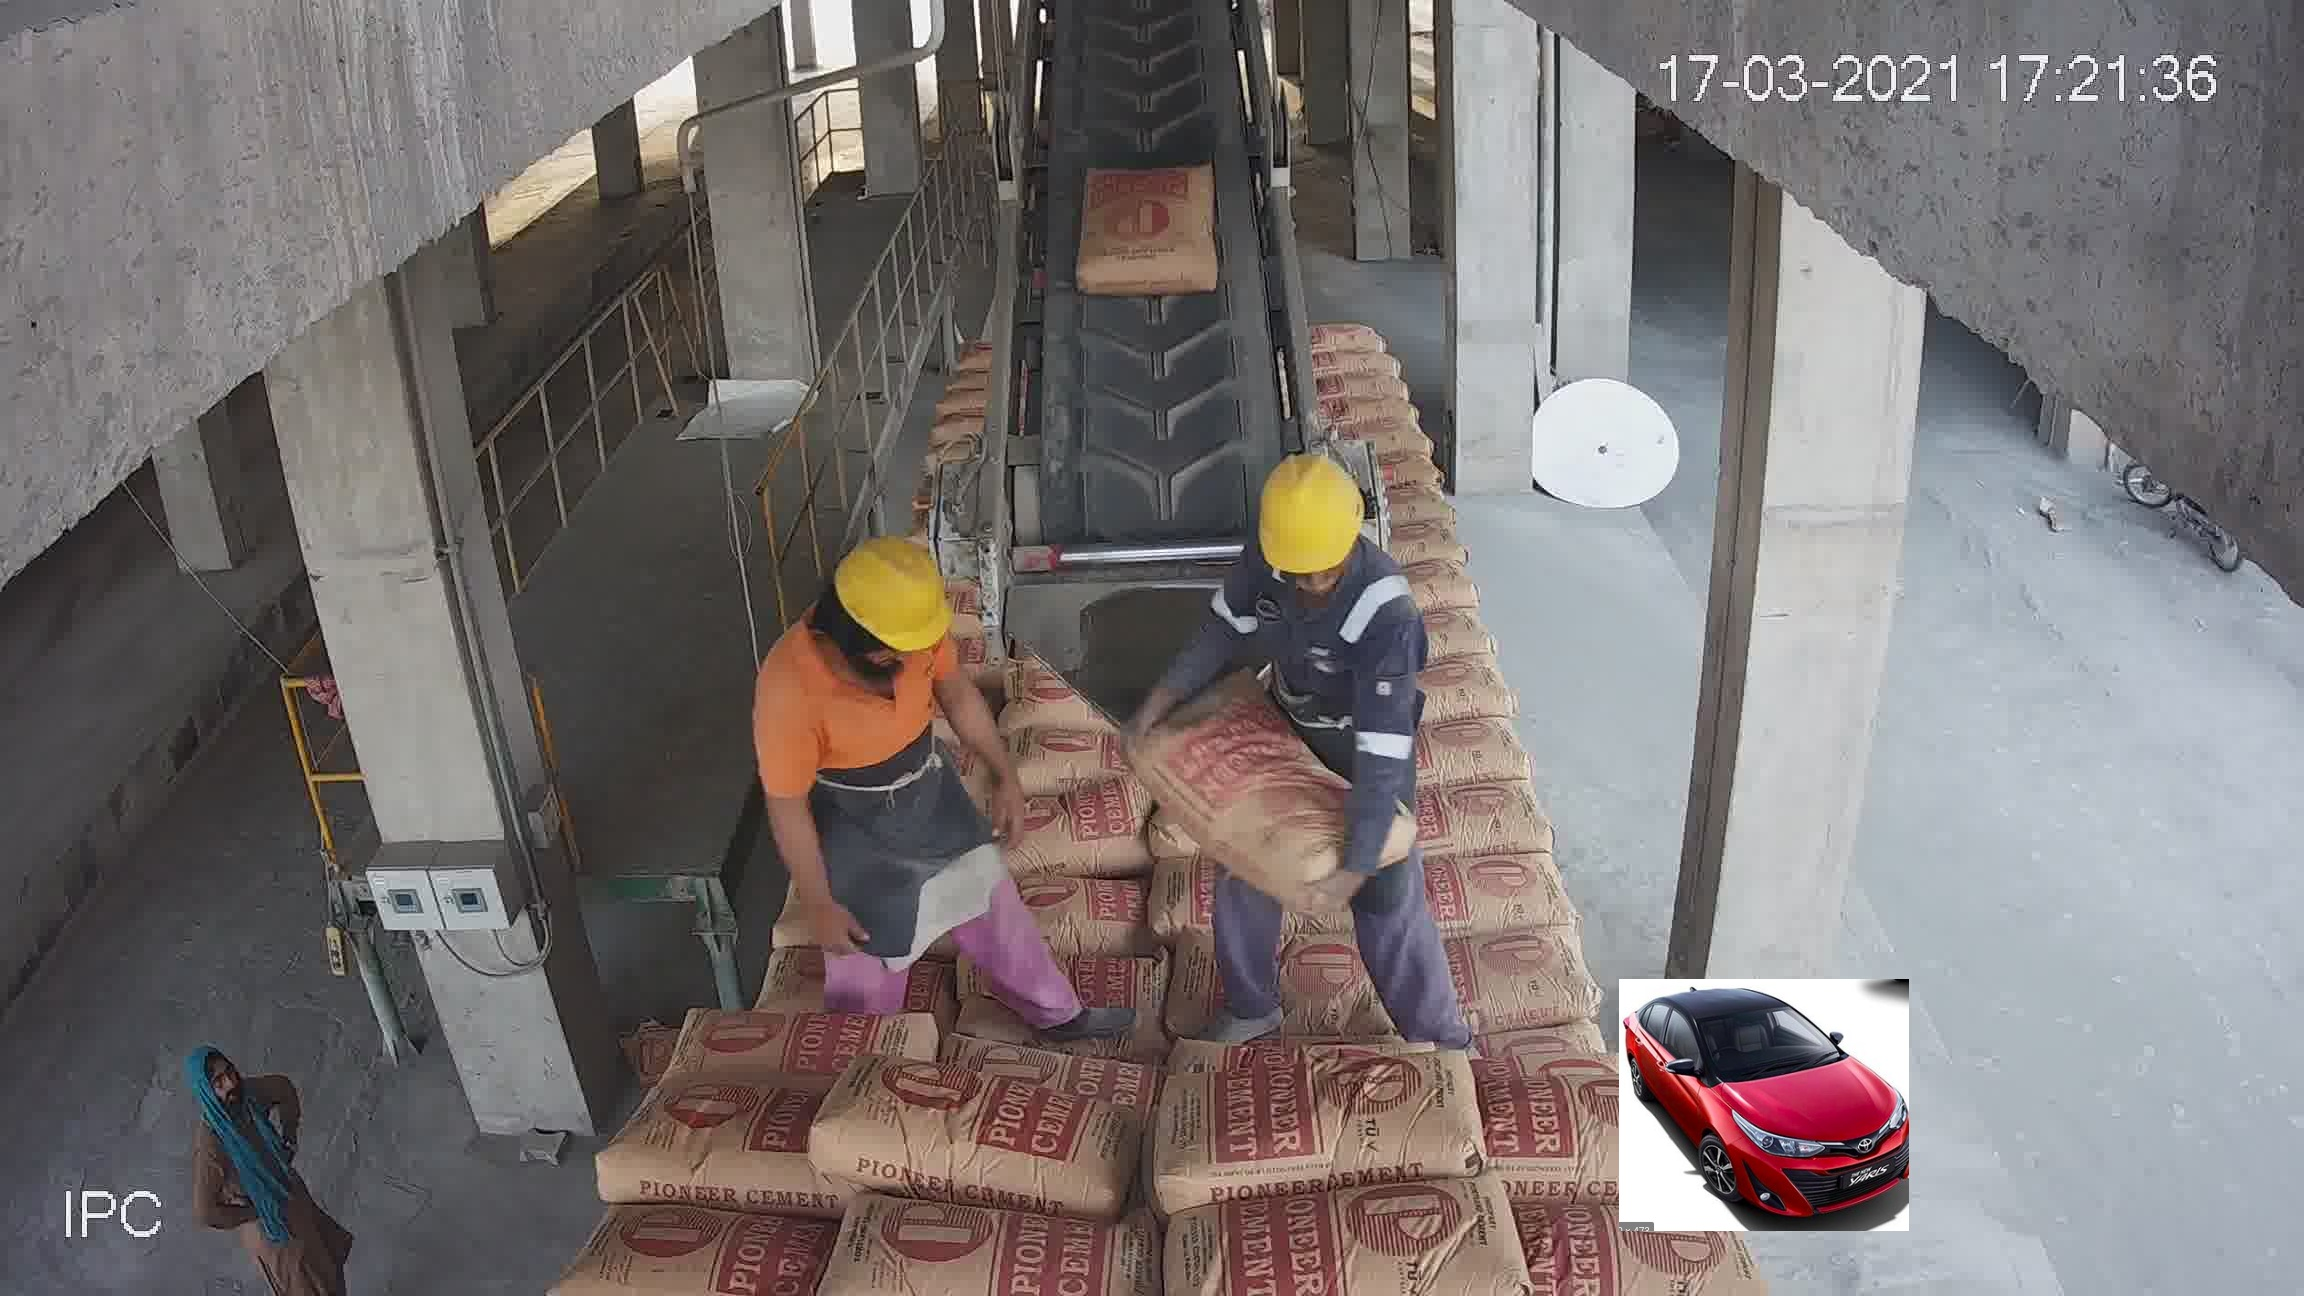bag_h: (1157, 1052, 1497, 1207), (820, 1060, 1152, 1206), (1146, 930, 1475, 1071), (1146, 820, 1435, 964), (869, 919, 1157, 1052), (1135, 717, 1389, 866), (793, 1198, 1169, 1296), (638, 953, 892, 1093), (1155, 1192, 1559, 1275), (891, 836, 1166, 942), (1499, 1071, 1714, 1201), (584, 1117, 824, 1228), (1508, 1201, 1768, 1296), (1426, 853, 1635, 967), (897, 750, 1147, 843), (1478, 942, 1692, 1048), (696, 862, 908, 968), (1380, 753, 1597, 845), (565, 1222, 809, 1296), (1377, 685, 1552, 767), (699, 794, 900, 866), (1035, 658, 1192, 737), (1010, 563, 1188, 625), (1013, 711, 1174, 775), (1364, 589, 1497, 665), (1022, 612, 1176, 669), (886, 510, 1046, 563), (1383, 650, 1514, 715), (889, 473, 1014, 514), (904, 551, 1036, 589)
belt: (1025, 28, 1299, 521)
